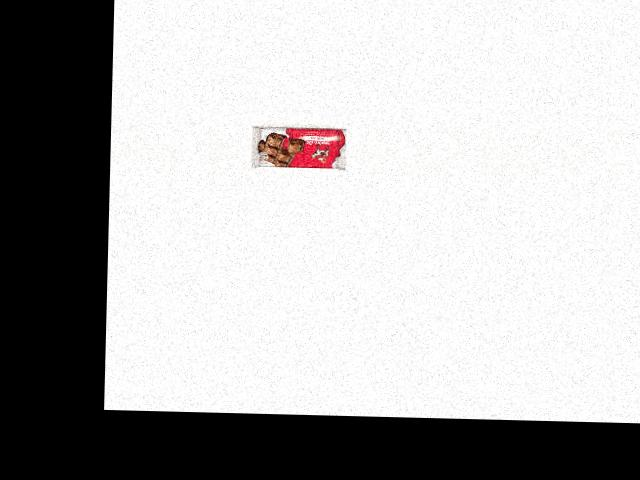chocolate: (249, 118, 349, 173)
